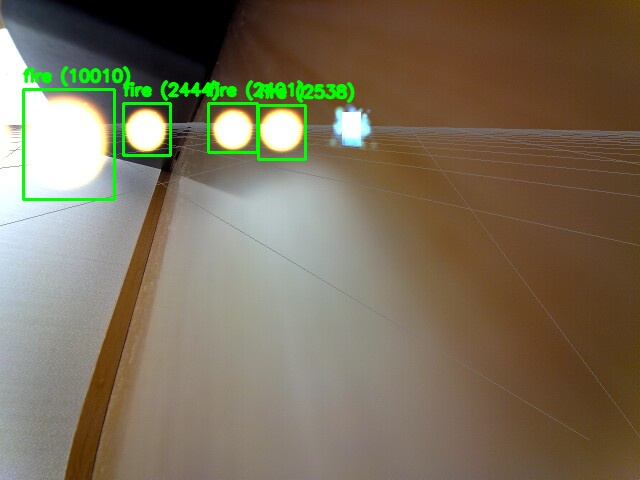fire: (23, 89, 114, 199), (258, 105, 305, 159), (123, 103, 170, 155), (208, 103, 257, 152)
